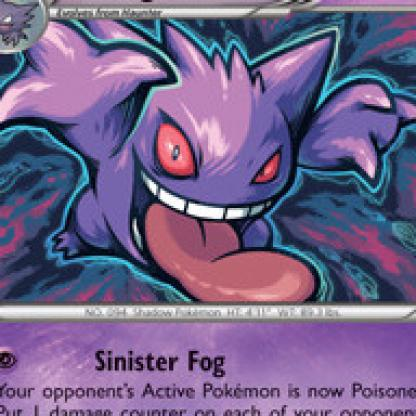Gengar: (1, 25, 415, 315)
